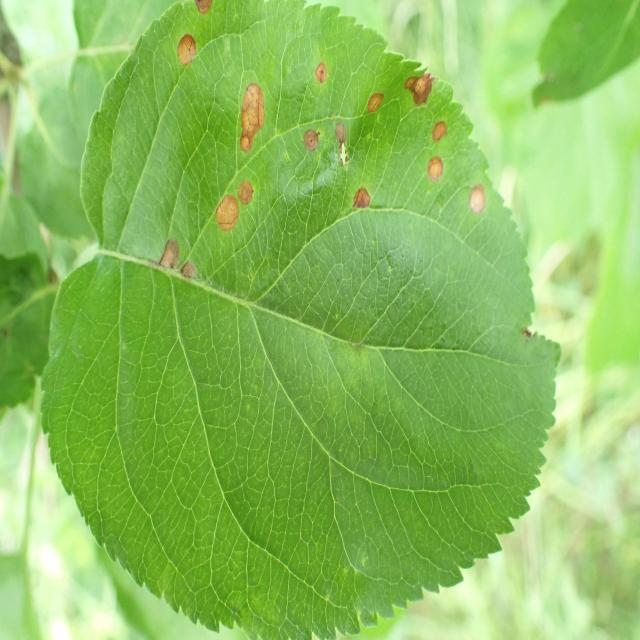Black Rot: (226, 66, 279, 165), (392, 36, 440, 114), (413, 131, 448, 199), (156, 238, 197, 296), (211, 182, 246, 247), (186, 0, 230, 51), (171, 31, 206, 87), (302, 42, 336, 98), (330, 108, 354, 182), (465, 165, 488, 238), (355, 79, 387, 125), (420, 111, 456, 151), (234, 168, 261, 221), (347, 177, 376, 224), (303, 120, 334, 161)
